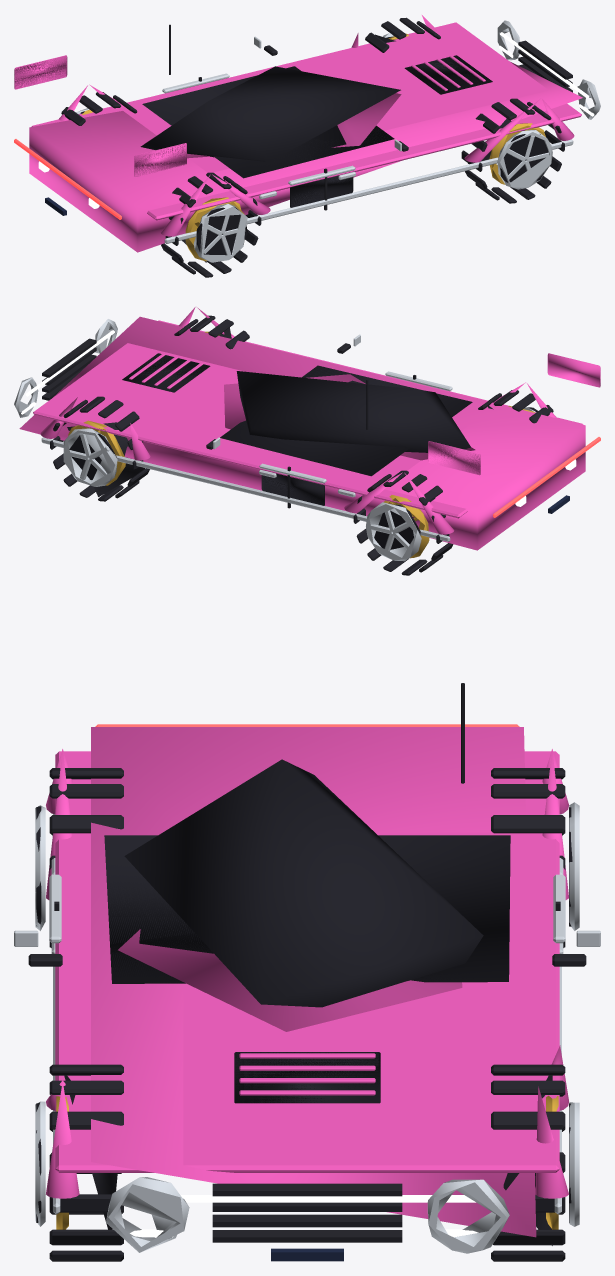
File: supercar.glb
The picture shows the model from 3 angles, top to bottom: view 1: azimuth 30°, elevation 25°; view 2: azimuth 150°, elevation 25°; view 3: azimuth 270°, elevation 25°; orthographic projection. The views are drawn at different scales.
Parts seen in each view (by area): view 1: supercar; view 2: supercar; view 3: supercar.
Boxes of the visible parts, left/top/right/bottom form: supercar: left=14, top=15, right=600, bottom=277; supercar: left=14, top=307, right=600, bottom=575; supercar: left=14, top=683, right=600, bottom=1261.
Bounding box in the file's own units: 4.78 × 1.47 × 2.41.
Materials: 1 (1 with a texture image).
